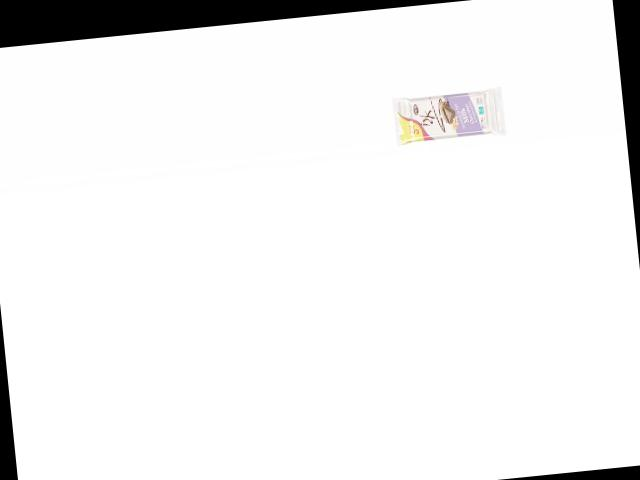chocolate: (388, 82, 507, 149)
